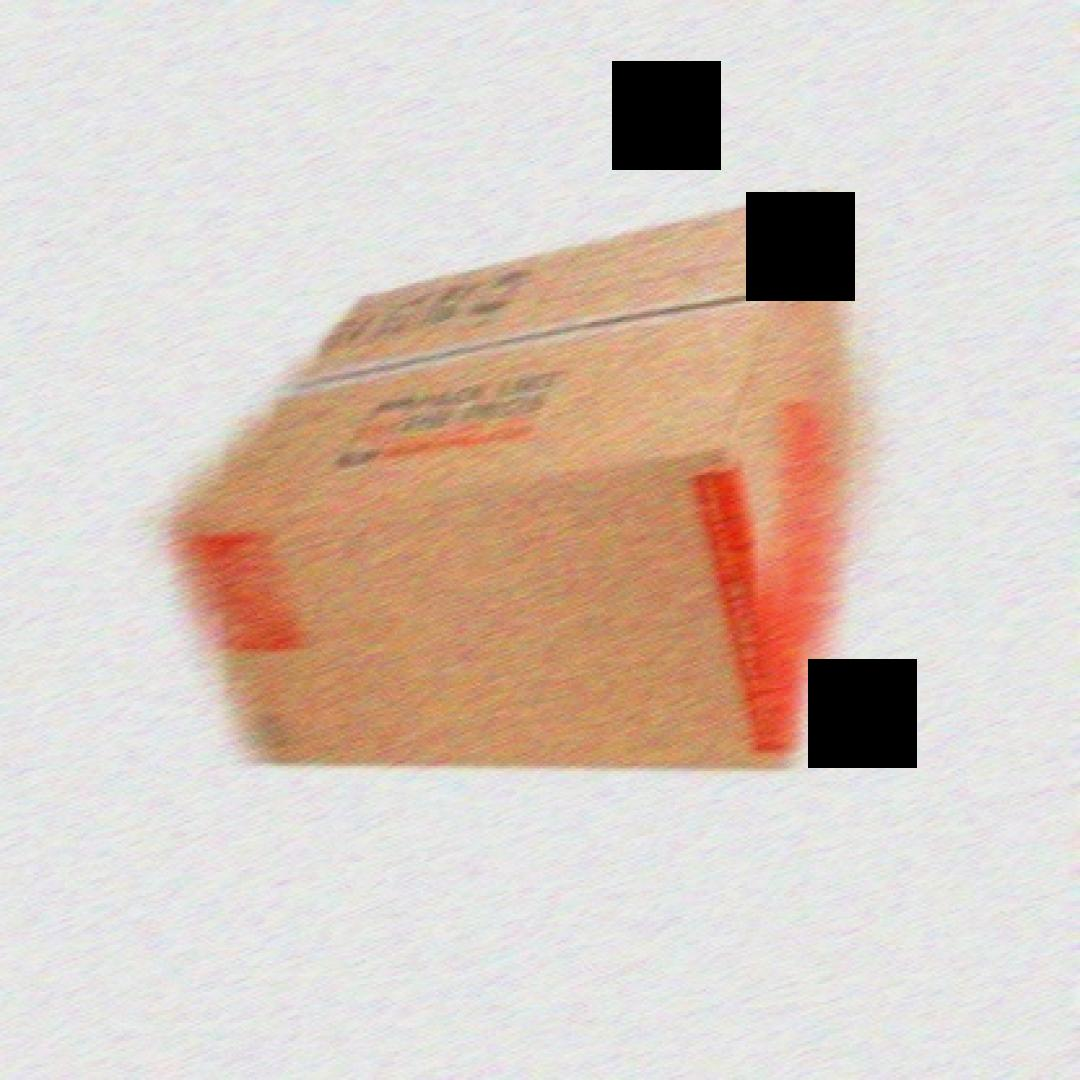package: (169, 187, 878, 771)
